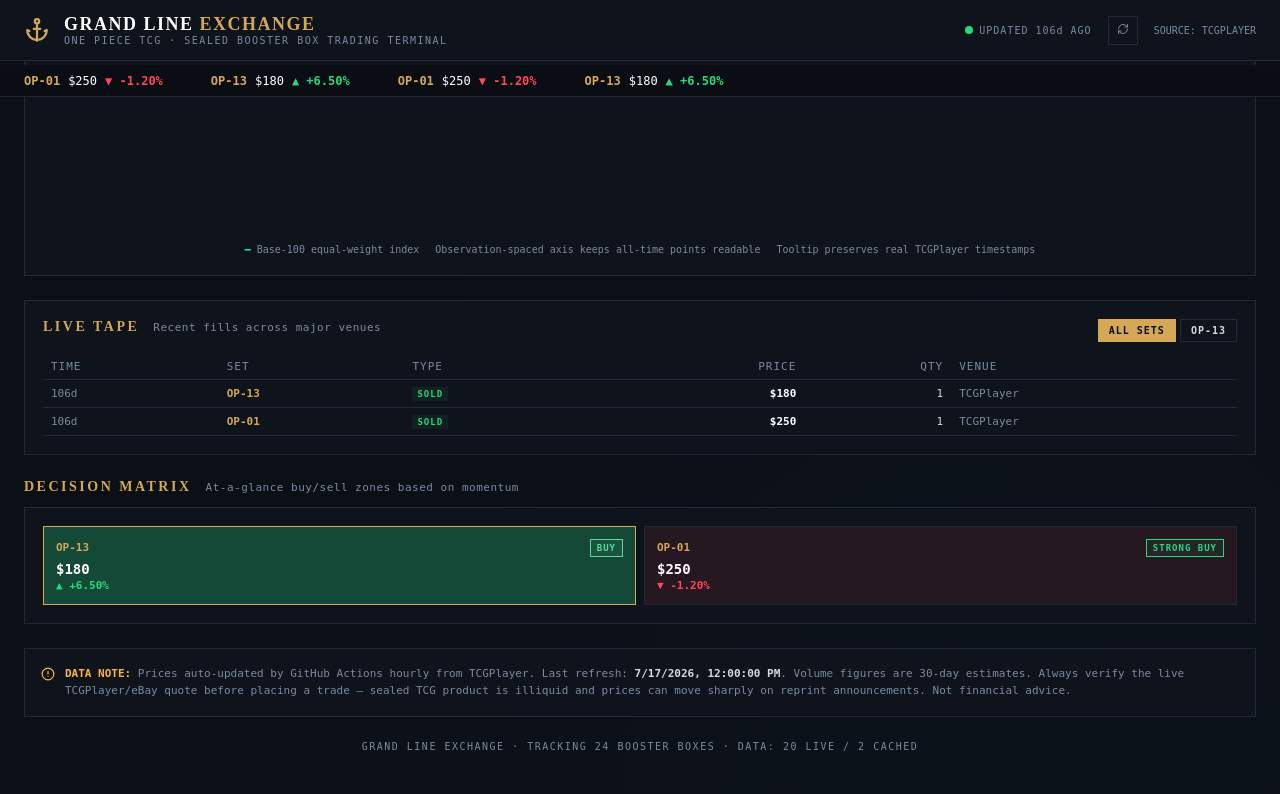
Test: Dashboard integration › selecting a set from the live tape moves the chart selection (ey9.7 binding)
The image size is (1280, 794).
(page scrolled)
Expected: the button "OP-13" is shown, [1180, 318, 1237, 342]
Click the text "OP-01" at (243, 421), box [219, 407, 404, 435]
(page scrolled)
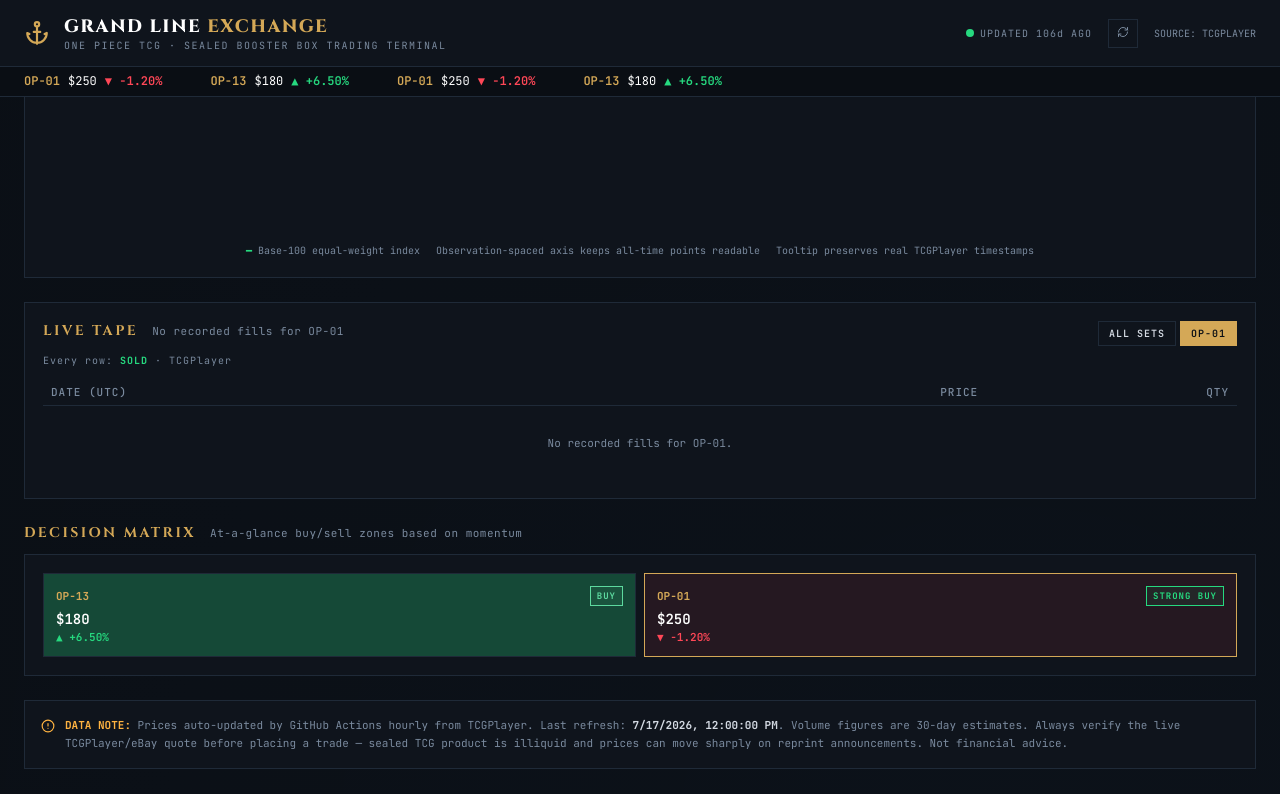
Result: the button "OP-01" is shown at [1180, 321, 1237, 346]
Result: the text "No recorded fills for OP-01" is shown at [152, 324, 344, 338]
